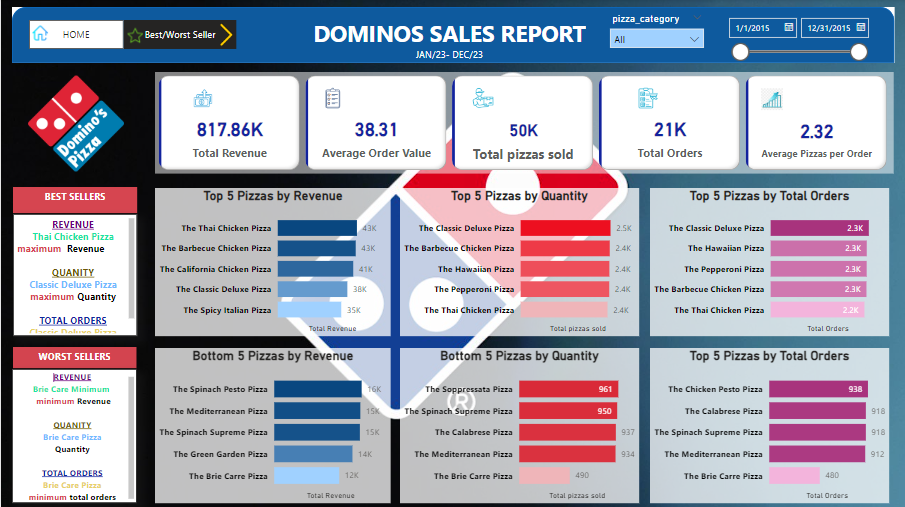

What the dashboard file says about the page in this screenshot:
{"tool":"powerbi","page":{"name":"Best/Worst Seller","canvas":[1280,720],"ordinal":1},"visuals":[{"type":"cardVisual","fields":{"Data":["Key Measures.Total Revenue","Key Measures.Average Order Value","Key Measures.Total pizzas sold","Key Measures.Total Orders","Key Measures.Average Pizzas per Order"]},"box":[218.4,104.1,1046.5,144.5],"z":0},{"type":"shape","box":[15.9,11,1250.5,79.5],"z":1000},{"type":"textbox","box":[418.1,21.3,435.1,56.7],"z":2000},{"type":"textbox","box":[418.3,65.5,435.1,38.6],"z":3000},{"type":"textbox","box":[16.8,267.1,176.4,37],"z":5000},{"type":"textbox","box":[16.8,304,176.4,173],"z":6000},{"type":"textbox","box":[16.8,493.9,174.7,30.2],"z":7000},{"type":"textbox","box":[15.6,524.4,177.2,189.9],"z":8000},{"type":"slicer","fields":{"Values":["pizza_sales.pizza_category"]},"box":[853.9,14.4,152.6,70.6],"z":9000},{"type":"slicer","fields":{"Values":["pizza_sales.order_date"]},"box":[1019.5,17.1,217.6,86.8],"z":10000},{"type":"clusteredBarChart","title":"Top 5 Pizzas by Revenue","fields":{"Category":["pizza_sales.pizza_name"],"Y":["Key Measures.Total Revenue"]},"box":[218.3,267.9,334.5,209.8],"z":15000},{"type":"clusteredBarChart","title":"Bottom 5 Pizzas by Revenue","fields":{"Category":["pizza_sales.pizza_name"],"Y":["Key Measures.Total Revenue"]},"box":[218.3,494.6,334.5,219.7],"z":17000},{"type":"clusteredBarChart","title":"Top 5 Pizzas by Quantity","fields":{"Category":["pizza_sales.pizza_name"],"Y":["Key Measures.Total pizzas sold"]},"box":[565.5,267.9,338.7,209.8],"z":18000},{"type":"clusteredBarChart","title":"Bottom 5 Pizzas by Quantity","fields":{"Category":["pizza_sales.pizza_name"],"Y":["Key Measures.Total pizzas sold"]},"box":[565.5,494.6,338.7,219.7],"z":19000},{"type":"clusteredBarChart","title":"Top 5 Pizzas by Total Orders","fields":{"Category":["pizza_sales.pizza_name"],"Y":["Key Measures.Total Orders"]},"box":[919.8,267.9,338.7,209.8],"z":20000},{"type":"clusteredBarChart","title":"Top 5 Pizzas by Total Orders","fields":{"Category":["pizza_sales.pizza_name"],"Y":["Key Measures.Total Orders"]},"box":[919.8,494.6,338.7,219.7],"z":21000},{"type":"pageNavigator","box":[174.7,30.2,159.6,42],"z":22000},{"type":"pageNavigator","box":[40.3,30.2,134.4,42],"z":23000},{"type":"image","box":[241.9,30.2,154.5,42],"z":24000},{"type":"image","box":[174.7,31.9,31.9,38.6],"z":25000},{"type":"image","box":[40.3,21.8,31.9,53.8],"z":26000},{"type":"image","box":[11.8,104.1,189.8,146.1],"z":27000}]}

Visuals, with their boxes in screenshot pixels (x1, y1, x2, y2), scaled from the page's 1280x720 canvas onto the 905x507 screenshot:
cardVisual - Key Measures.Total Revenue x Key Measures.Average Order Value: (x1=154, y1=73, x2=894, y2=175)
shape: (x1=11, y1=8, x2=895, y2=64)
textbox: (x1=296, y1=15, x2=603, y2=55)
textbox: (x1=296, y1=46, x2=603, y2=73)
textbox: (x1=12, y1=188, x2=137, y2=214)
textbox: (x1=12, y1=214, x2=137, y2=336)
textbox: (x1=12, y1=348, x2=135, y2=369)
textbox: (x1=11, y1=369, x2=136, y2=503)
slicer - pizza_sales.pizza_category: (x1=604, y1=10, x2=712, y2=60)
slicer - pizza_sales.order_date: (x1=721, y1=12, x2=875, y2=73)
"Top 5 Pizzas by Revenue" clusteredBarChart: (x1=154, y1=189, x2=391, y2=336)
"Bottom 5 Pizzas by Revenue" clusteredBarChart: (x1=154, y1=348, x2=391, y2=503)
"Top 5 Pizzas by Quantity" clusteredBarChart: (x1=400, y1=189, x2=639, y2=336)
"Bottom 5 Pizzas by Quantity" clusteredBarChart: (x1=400, y1=348, x2=639, y2=503)
"Top 5 Pizzas by Total Orders" clusteredBarChart: (x1=650, y1=189, x2=890, y2=336)
"Top 5 Pizzas by Total Orders" clusteredBarChart: (x1=650, y1=348, x2=890, y2=503)
pageNavigator: (x1=124, y1=21, x2=236, y2=51)
pageNavigator: (x1=28, y1=21, x2=124, y2=51)
image: (x1=171, y1=21, x2=280, y2=51)
image: (x1=124, y1=22, x2=146, y2=50)
image: (x1=28, y1=15, x2=51, y2=53)
image: (x1=8, y1=73, x2=143, y2=176)
